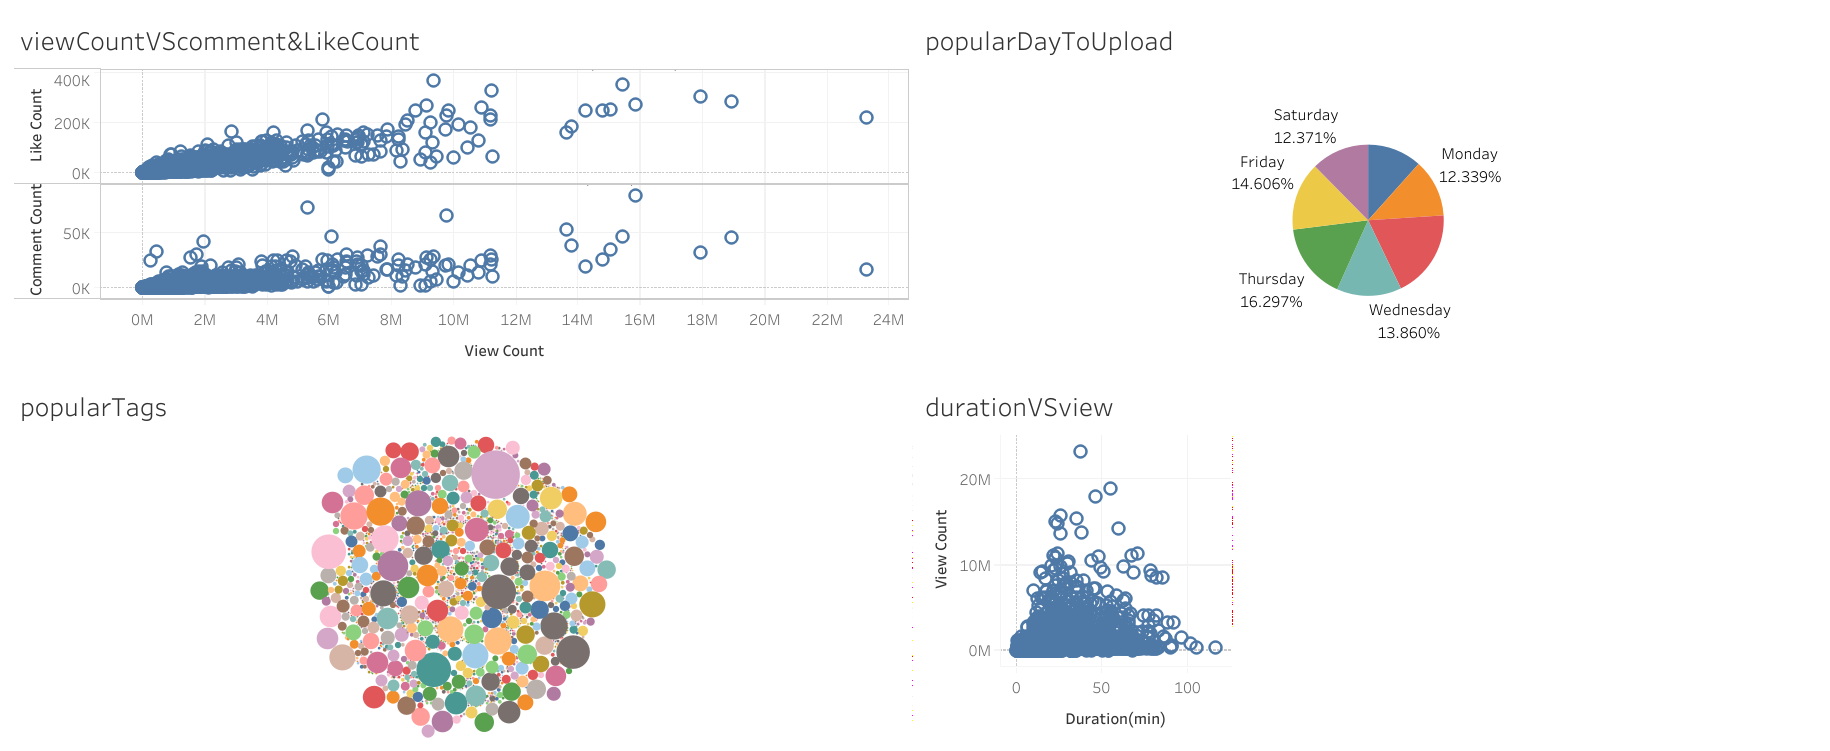

Layout of this report page (visuals, bound fields, positions):
{"tool":"tableau","page":{"name":"youTubeChannelVisualisation","canvas":[1000,1000],"units":"permille","ordinal":0},"visuals":[{"type":"worksheet","title":"viewCountVScomment&LikeCount","mark":"Automatic","rows":["likeCount","commentCount"],"cols":["viewCount"],"box":[4.8,9.4,495.1,490.6]},{"type":"worksheet","title":"popularDayToUpload","mark":"Pie","box":[500,9.4,495.2,490.6]},{"type":"worksheet","title":"popularTags","mark":"Circle","box":[4.8,500,495.2,490.6]},{"type":"worksheet","title":"durationVSview","mark":"Automatic","rows":["viewCount"],"cols":["Calculation_796292752042770433"],"box":[500,500,495.2,490.6]}]}

Visuals, with their boxes on the dashboard's canvas, which has no fixed pixel size, in thousandths of its width and height (x1, y1, x2, y2). These are canvas units, not pixel positions in the 1830x751 screenshot, which may show the page scaled, cropped or inside an application window:
"viewCountVScomment&LikeCount" worksheet: {"x1": 5, "y1": 9, "x2": 500, "y2": 500}
"popularDayToUpload" worksheet (Pie marks): {"x1": 500, "y1": 9, "x2": 995, "y2": 500}
"popularTags" worksheet (Circle marks): {"x1": 5, "y1": 500, "x2": 500, "y2": 991}
"durationVSview" worksheet: {"x1": 500, "y1": 500, "x2": 995, "y2": 991}
